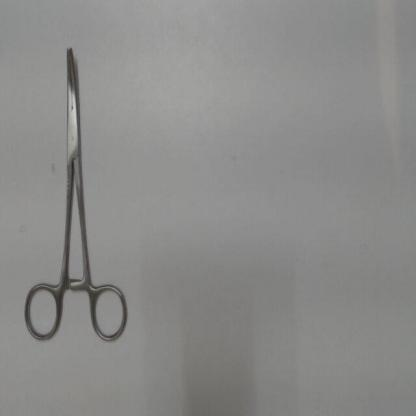Crile Artery Forceps: (18, 40, 135, 352)
